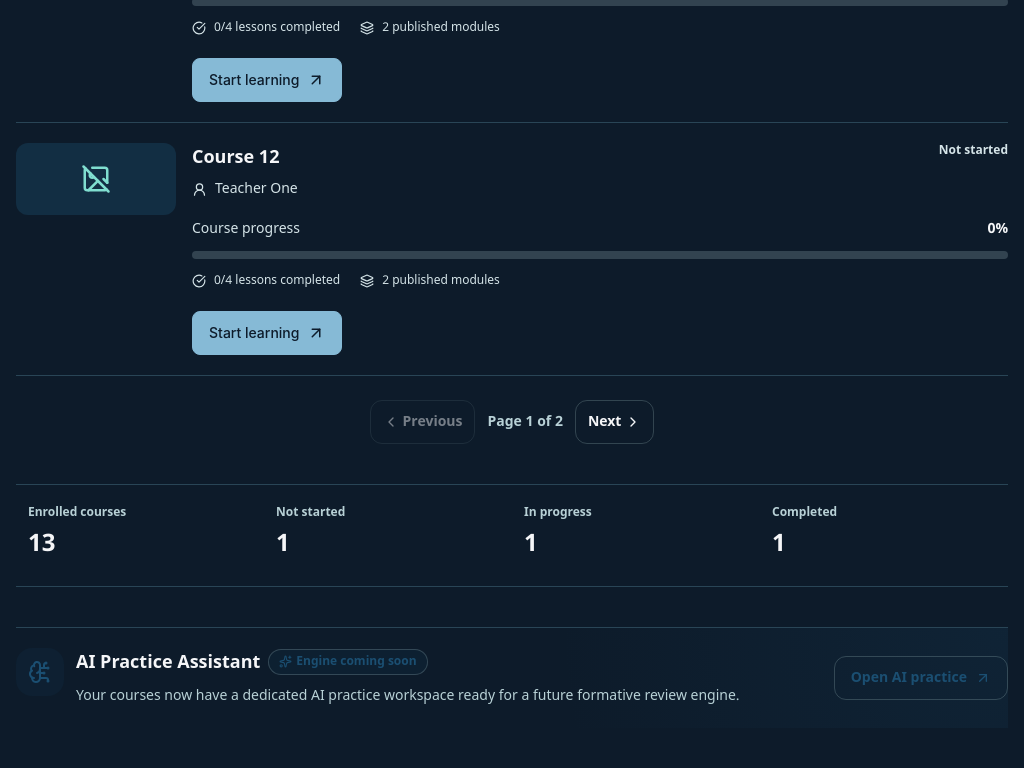
Test: StudentCoursesLearningHub › provides accessible bounded pagination
The width and height of the screenshot is (1024, 768).
(page scrolled)
Check: the text "Page 1 of 2" is shown, box [488,412,563,432]
Click the button "Next".
click(615, 422)  # box [575,400,654,444]
(page scrolled)
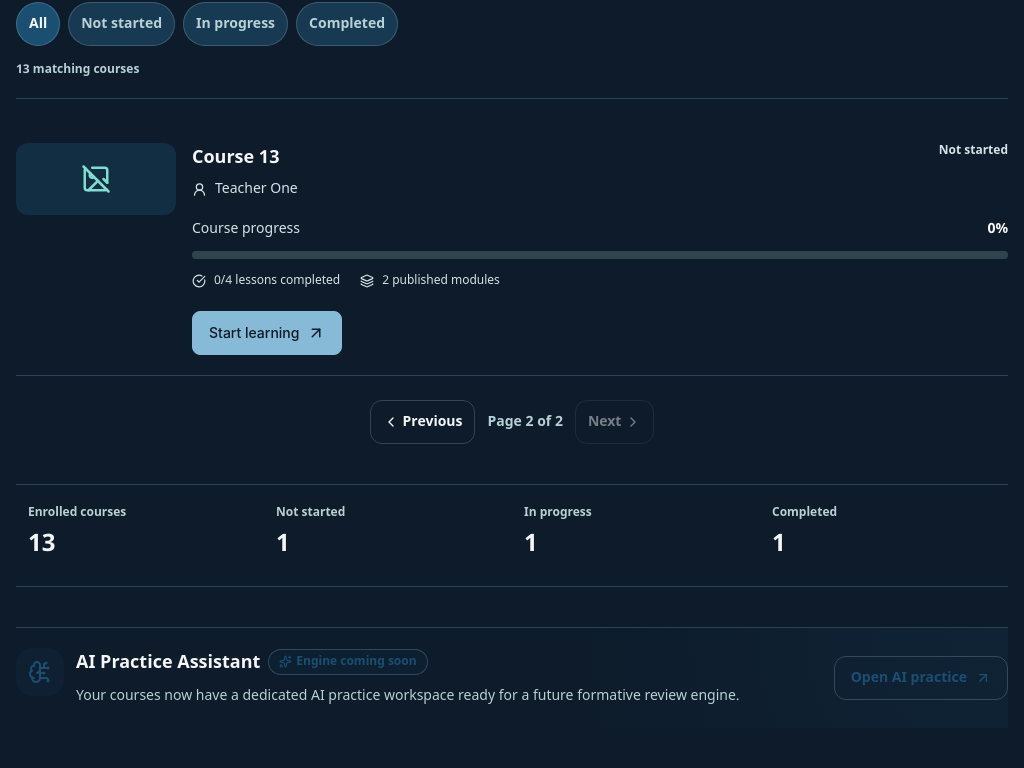
Check: the heading "Course 13" is shown, box [192,143,280,171]
Check: the text "Page 2 of 2" is shown, box [488,412,563,432]
